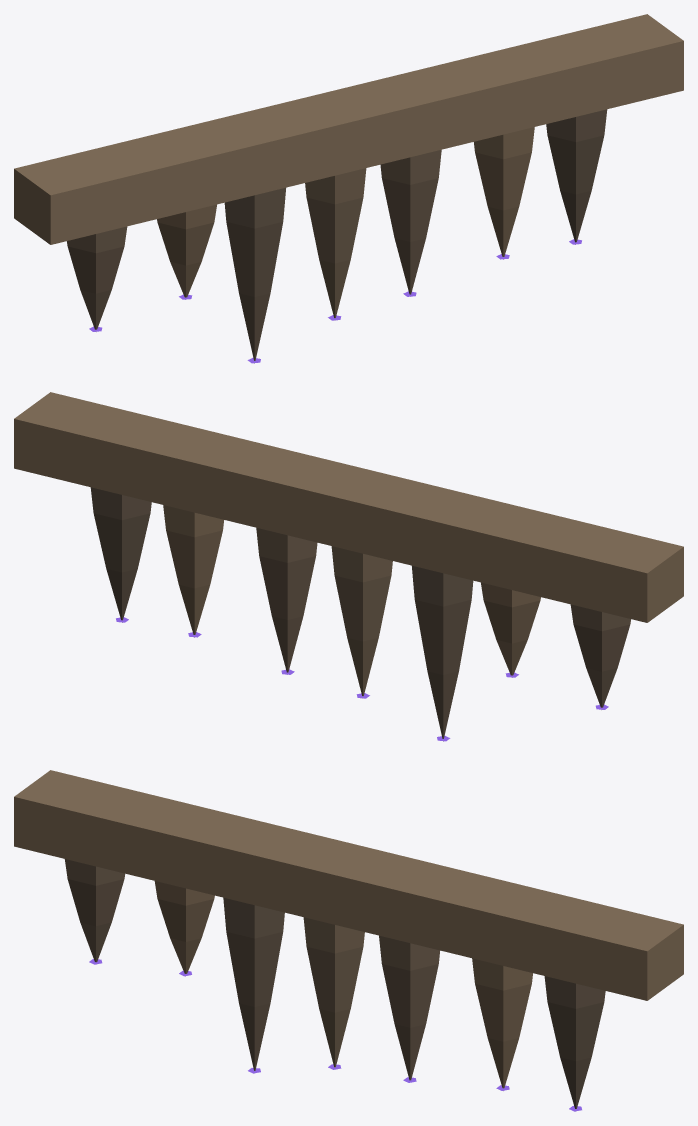
Rendered from overlay_2.fbx.
3 views of the same model, one above another, from view 1: azimuth 30°, elevation 25°; view 2: azimuth 150°, elevation 25°; view 3: azimuth 330°, elevation 25° (orthographic).
Parts seen in each view (by area): view 1: overlay_2; view 2: overlay_2; view 3: overlay_2.
Part boxes in pixels (<box>): overlay_2: <box>14,14,683,363</box>; overlay_2: <box>14,392,683,741</box>; overlay_2: <box>14,770,683,1111</box>.
Size of the model in its own units: 4 by 1.43 by 0.4.
